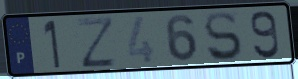1: (42, 19, 62, 71)
4: (126, 14, 157, 66)
6: (163, 12, 198, 64)
9: (249, 10, 281, 60)
S: (202, 10, 245, 63)
Z: (75, 15, 119, 70)
